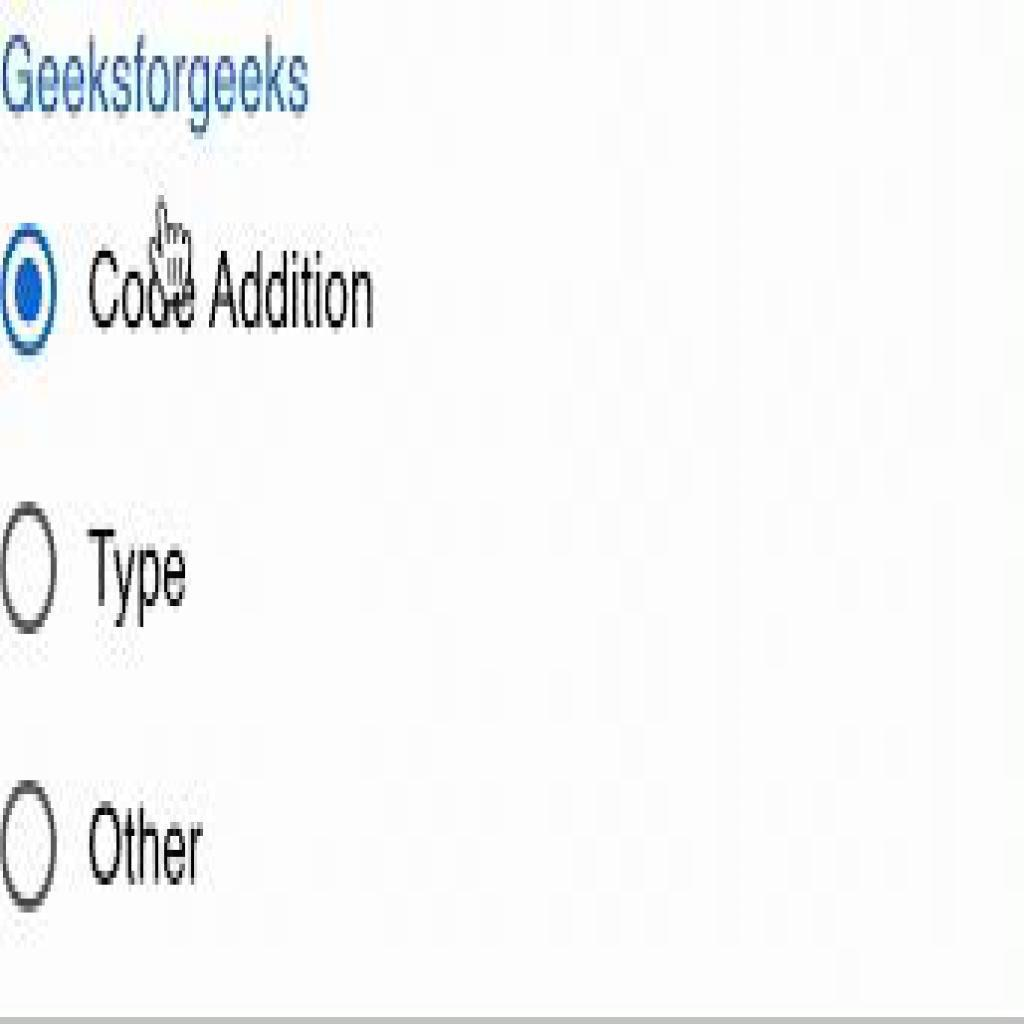radio: (2, 490, 64, 647), (3, 221, 62, 369), (2, 772, 62, 917)
